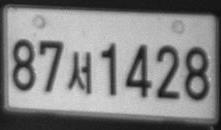1: (98, 42, 123, 97)
2: (155, 44, 180, 99)
4: (124, 43, 152, 98)
7: (38, 40, 64, 92)
8: (184, 45, 210, 101), (11, 38, 36, 91)
서: (67, 51, 92, 95)
